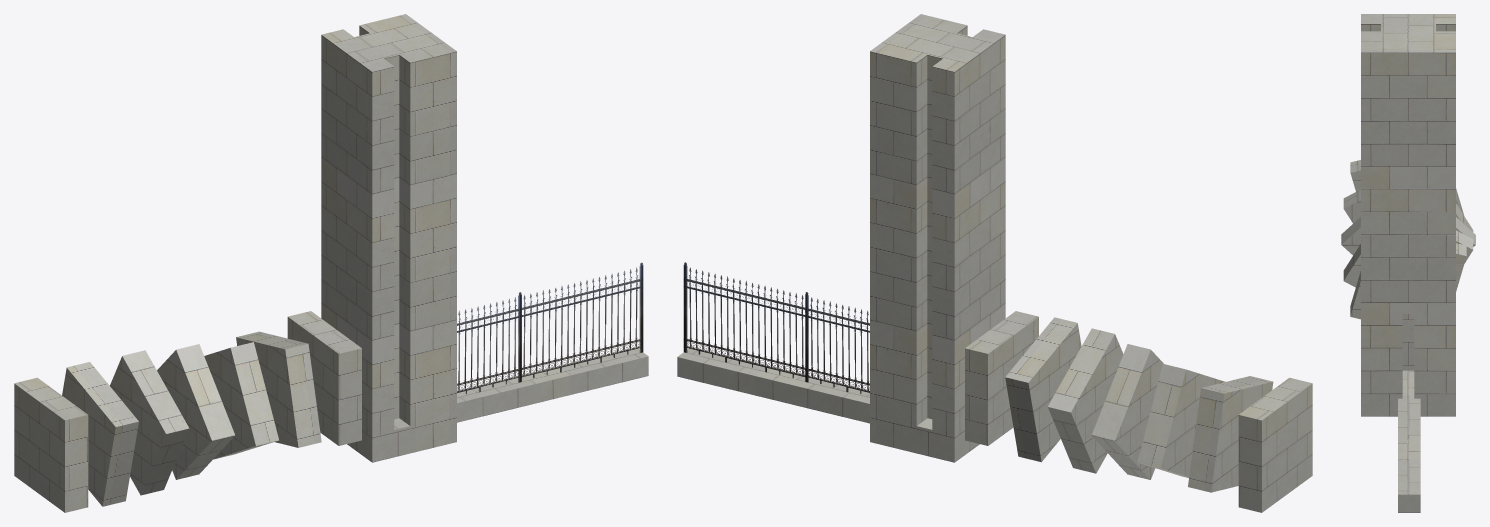
Rendered from DaMenZaoXing.FBX.
3 views of the same model, side by side, from view 1: azimuth 30°, elevation 25°; view 2: azimuth 150°, elevation 25°; view 3: azimuth 270°, elevation 25° (orthographic). The views are drawn at different scales.
Visible parts, largest first — view 1: Box706, Box713; view 2: Box706, Box713; view 3: Box706, Box713.
Boxes of the visible parts, bbox=[...] form: Box706: bbox=[321, 14, 648, 462]; Box713: bbox=[14, 311, 361, 512]; Box706: bbox=[677, 14, 1005, 462]; Box713: bbox=[965, 311, 1312, 512]; Box706: bbox=[1361, 14, 1455, 512]; Box713: bbox=[1341, 160, 1475, 319].
Bounding box in the file's own units: 1296 × 802 × 268.
